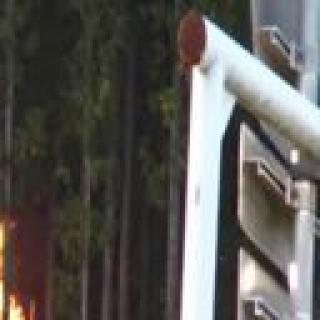fire: (0, 136, 51, 320)
